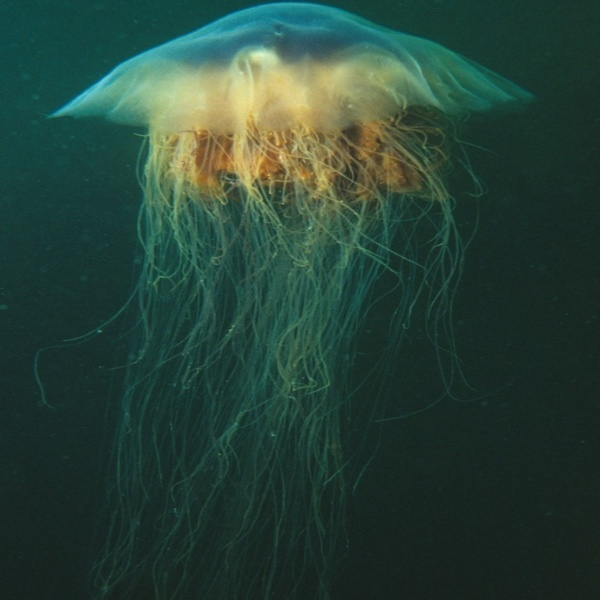Jellyfish: (30, 1, 538, 599)
